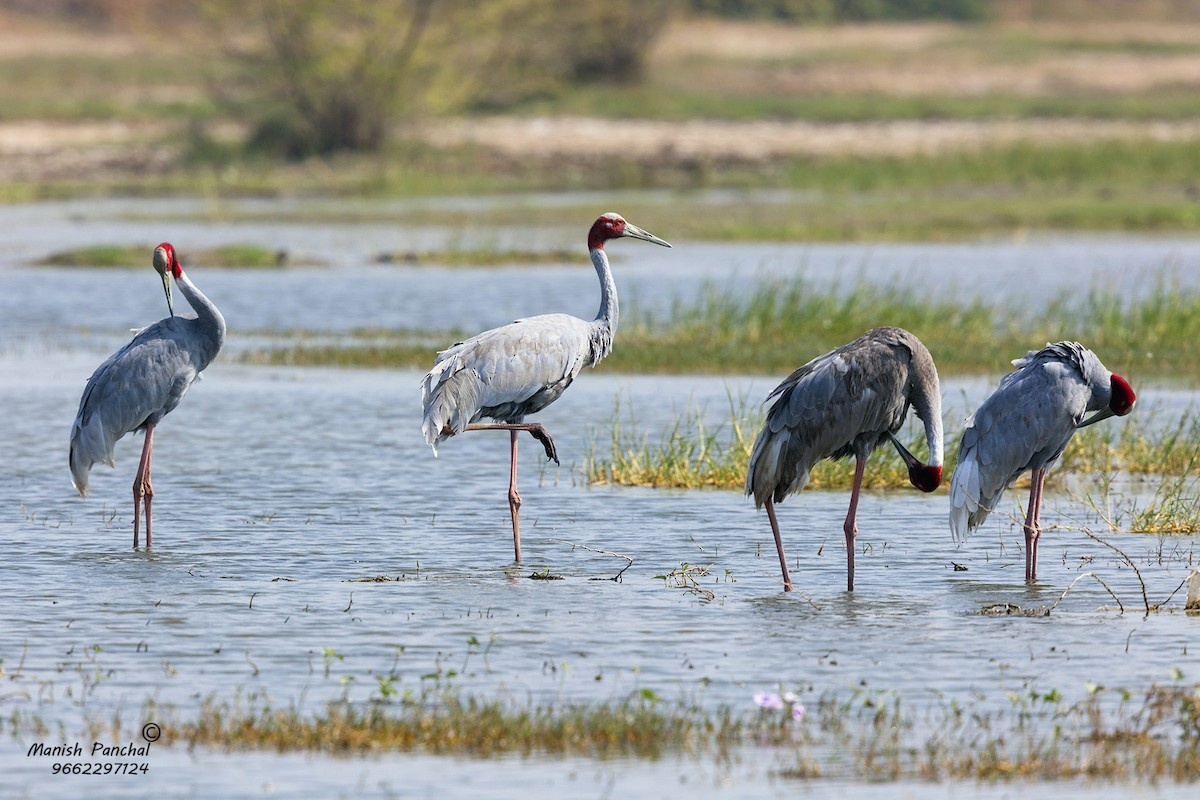crane: (418, 201, 679, 545), (753, 319, 953, 609), (66, 240, 241, 551), (952, 332, 1139, 601)
